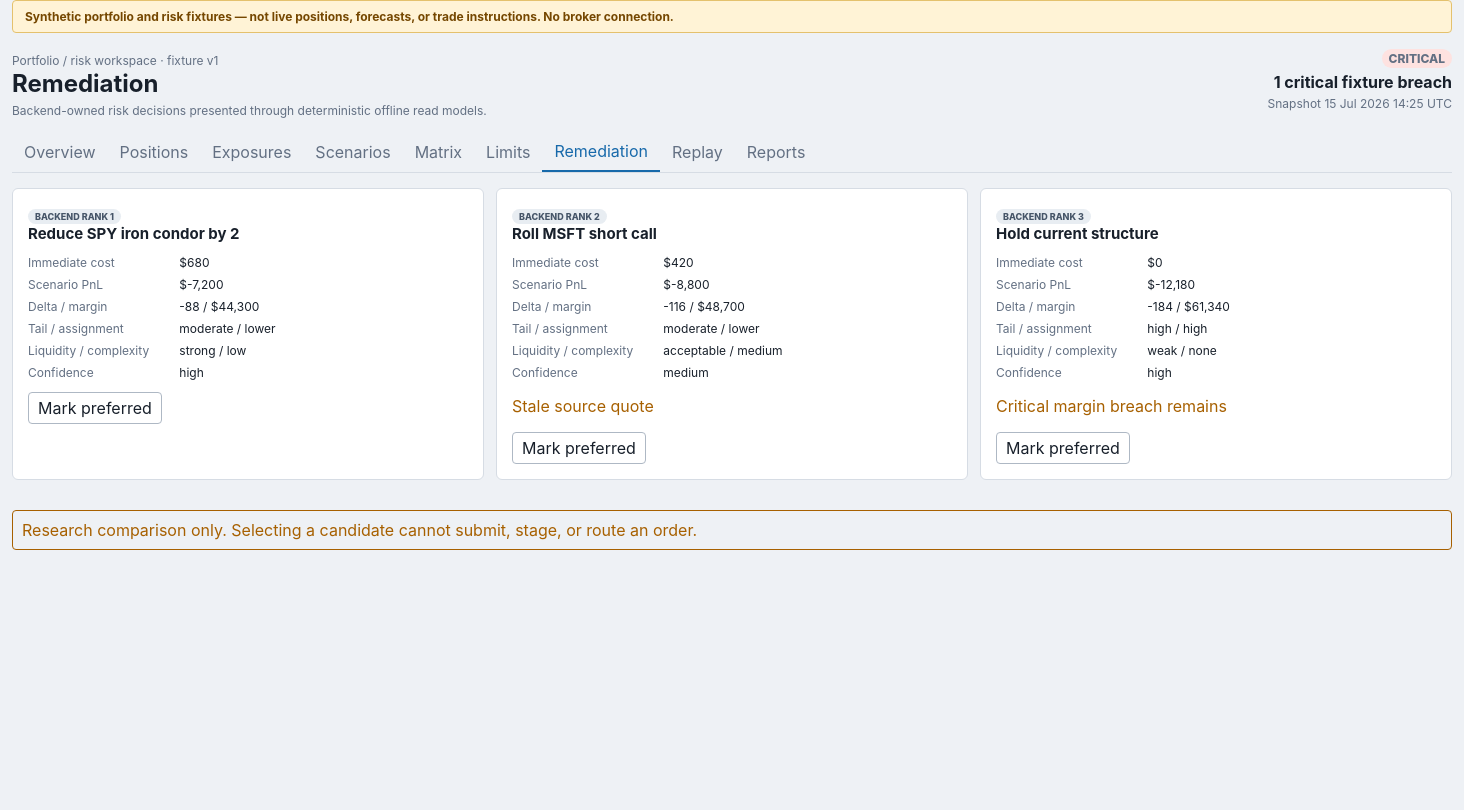
portfolio and risk workspace › keeps remediation research-only
This screenshot has width=1464, height=810.
Expected: the text "cannot submit, stage, or route an order" is shown, left=22, top=520, right=697, bottom=540
Click the button "Mark preferred" below "strong". click: (95, 408)
box: left=28, top=392, right=162, bottom=424
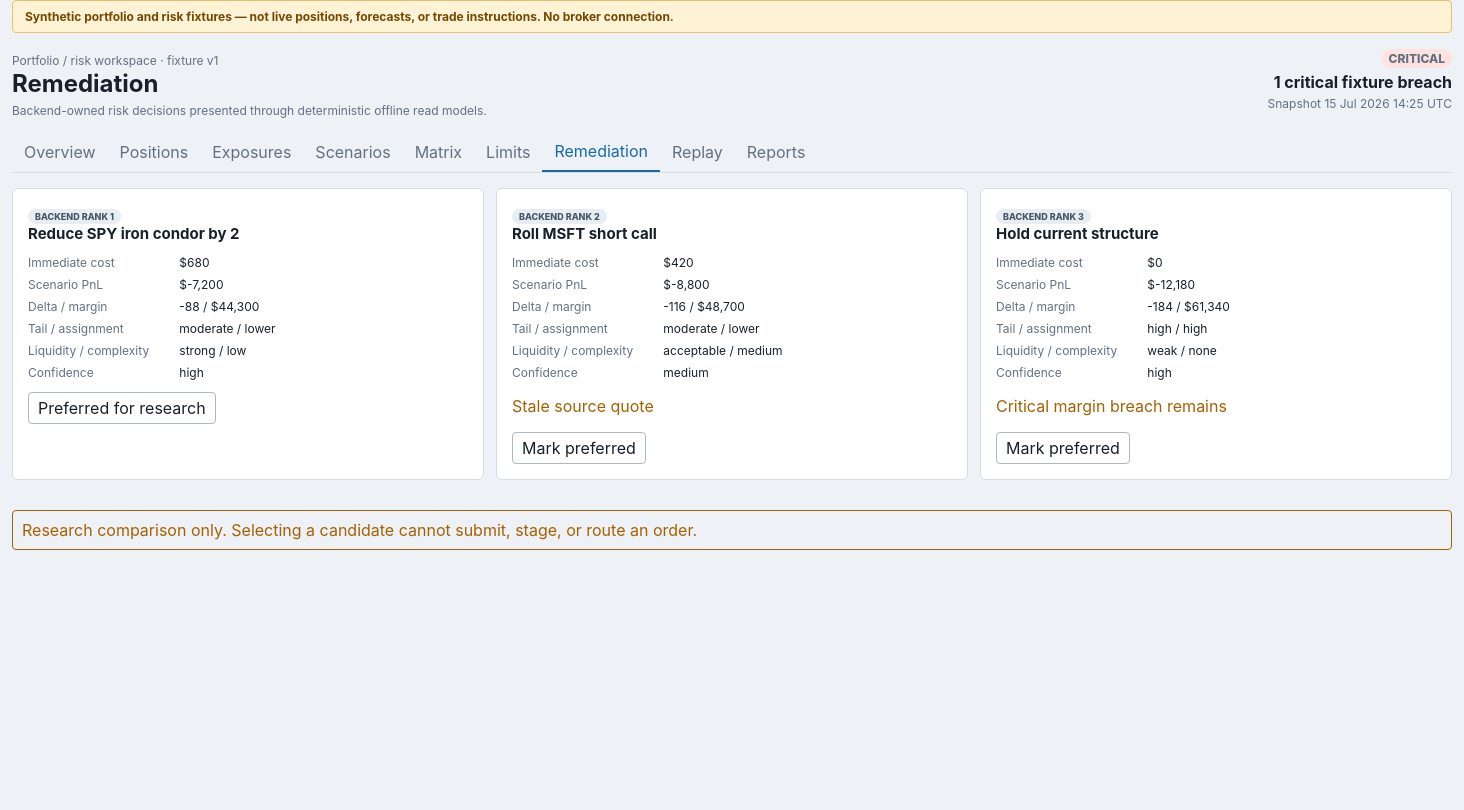
Result: the button "Preferred for research" is shown at left=28, top=392, right=216, bottom=424
